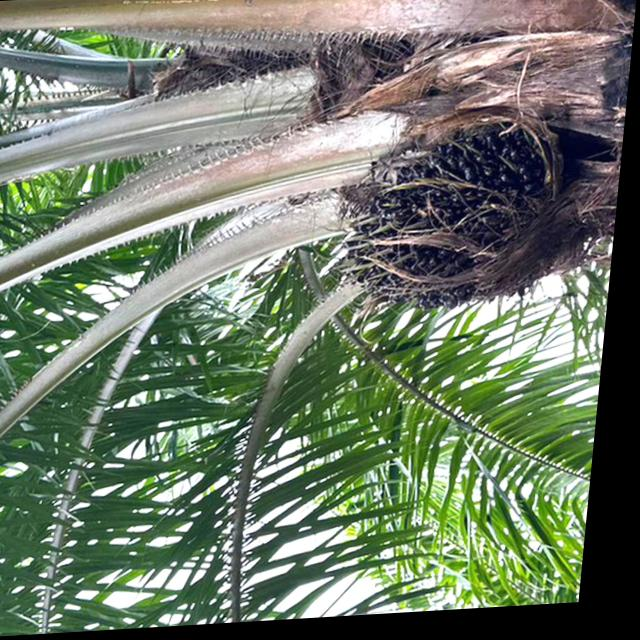unripe: (339, 119, 581, 324)
